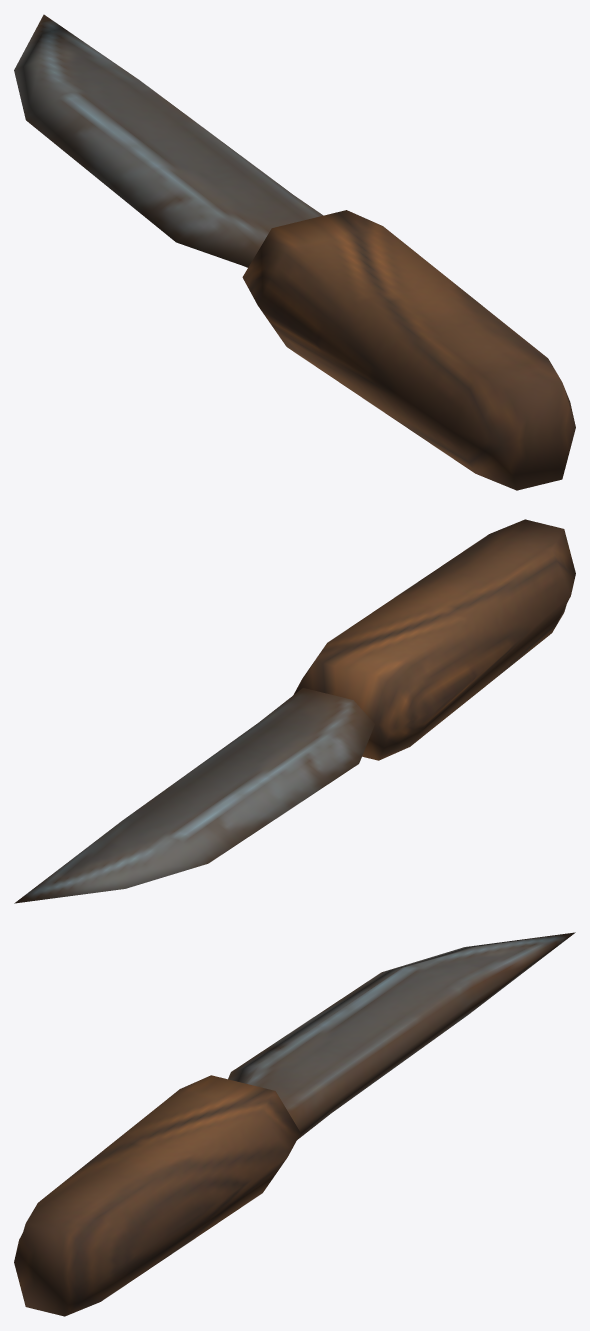
Rendered from knife2.fbx.
3 views of the same model, one above another, from view 1: azimuth 30°, elevation 25°; view 2: azimuth 150°, elevation 25°; view 3: azimuth 330°, elevation 25° (orthographic). The views are drawn at different scales.
Visible parts, largest first — view 1: knife2; view 2: knife2; view 3: knife2.
Boxes of the visible parts, box(x1,y1,x2,y2) form: knife2: box(14, 14, 575, 490); knife2: box(14, 519, 575, 903); knife2: box(14, 932, 575, 1316).
Bounding box in the file's own units: 7.39 × 4.45 × 46.15.
